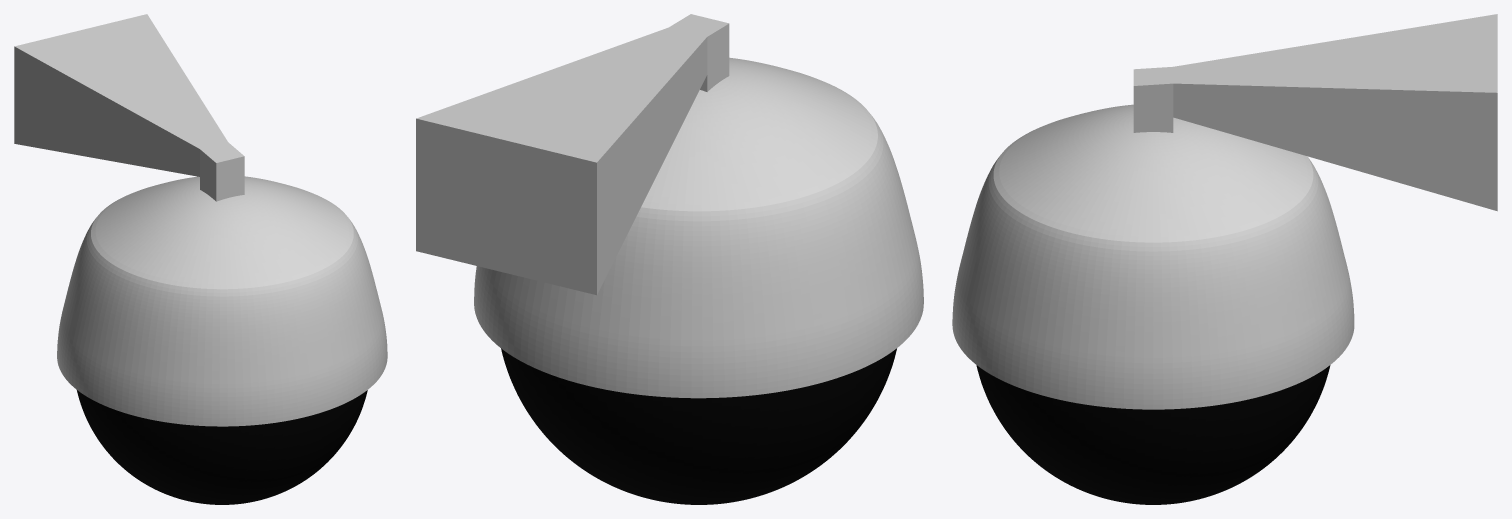
File: Kamera.fbx
3 renders of one model, left to right at view 1: azimuth 30°, elevation 25°; view 2: azimuth 150°, elevation 25°; view 3: azimuth 270°, elevation 25°, orthographic. The views are drawn at different scales.
Parts seen in each view (by area): view 1: Koule, Rameno; view 2: Koule, Rameno; view 3: Koule, Rameno.
Boxes of the visible parts, x1=… form: Koule: x1=57, y1=176, x2=387, y2=504; Rameno: x1=14, y1=14, x2=244, y2=201; Koule: x1=474, y1=57, x2=923, y2=504; Rameno: x1=416, y1=14, x2=729, y2=295; Koule: x1=952, y1=104, x2=1354, y2=504; Rameno: x1=1133, y1=14, x2=1497, y2=211.
Bounding box in the file's own units: 23.17 × 27.52 × 31.41.
